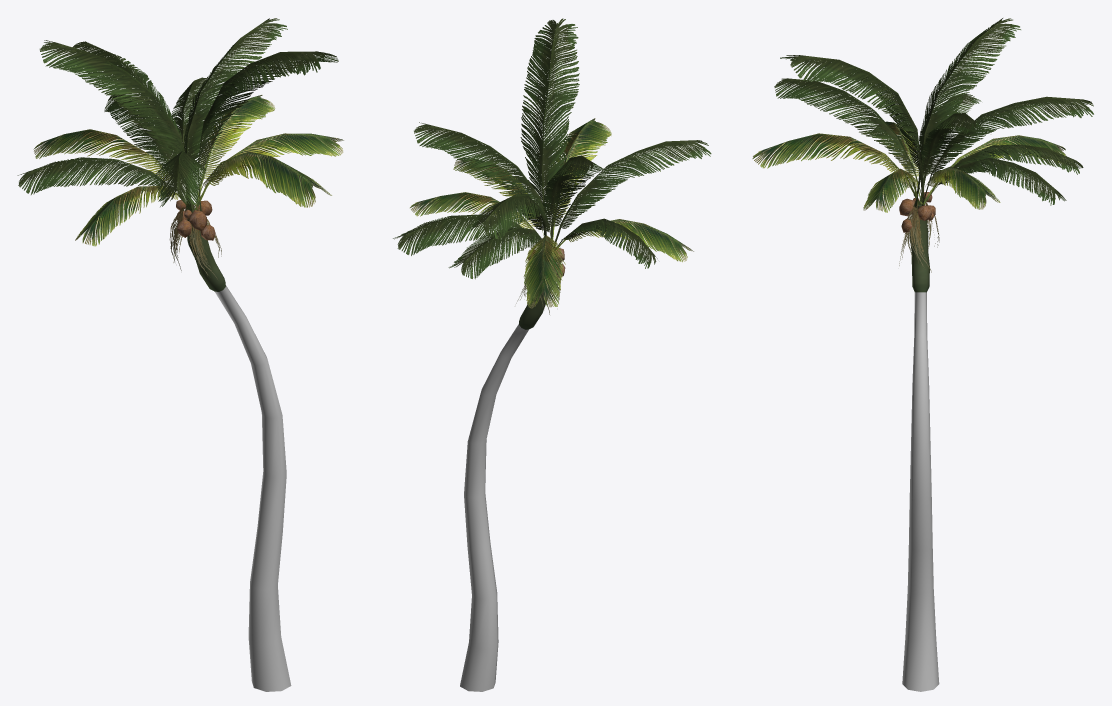
Rendered from kin_LOD0.fbx.
3 views of the same model, side by side, from view 1: azimuth 30°, elevation 25°; view 2: azimuth 150°, elevation 25°; view 3: azimuth 270°, elevation 25° (orthographic). The views are drawn at different scales.
Parts seen in each view (by area): view 1: Mesh Object; view 2: Mesh Object; view 3: Mesh Object.
Part boxes in pixels (bbox=[...]): Mesh Object: bbox=[17, 18, 343, 691]; Mesh Object: bbox=[393, 18, 711, 691]; Mesh Object: bbox=[752, 18, 1093, 691].
Size of the model in its own units: 22.12 by 51.27 by 26.14.
